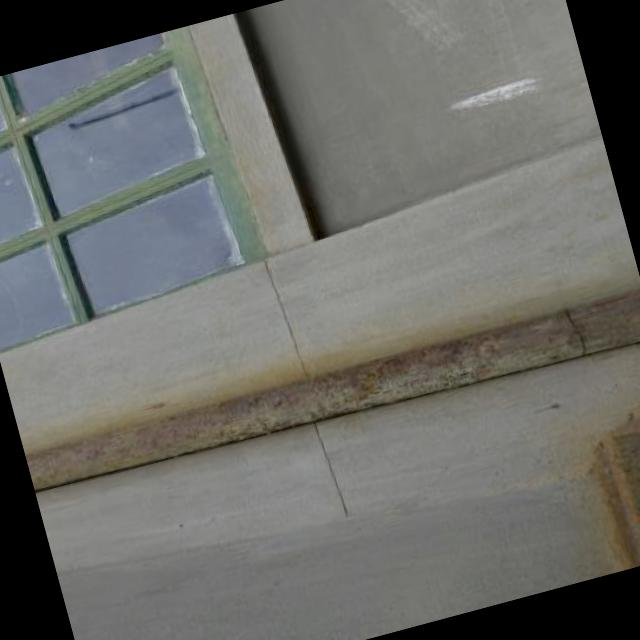gas: (23, 285, 640, 487)
